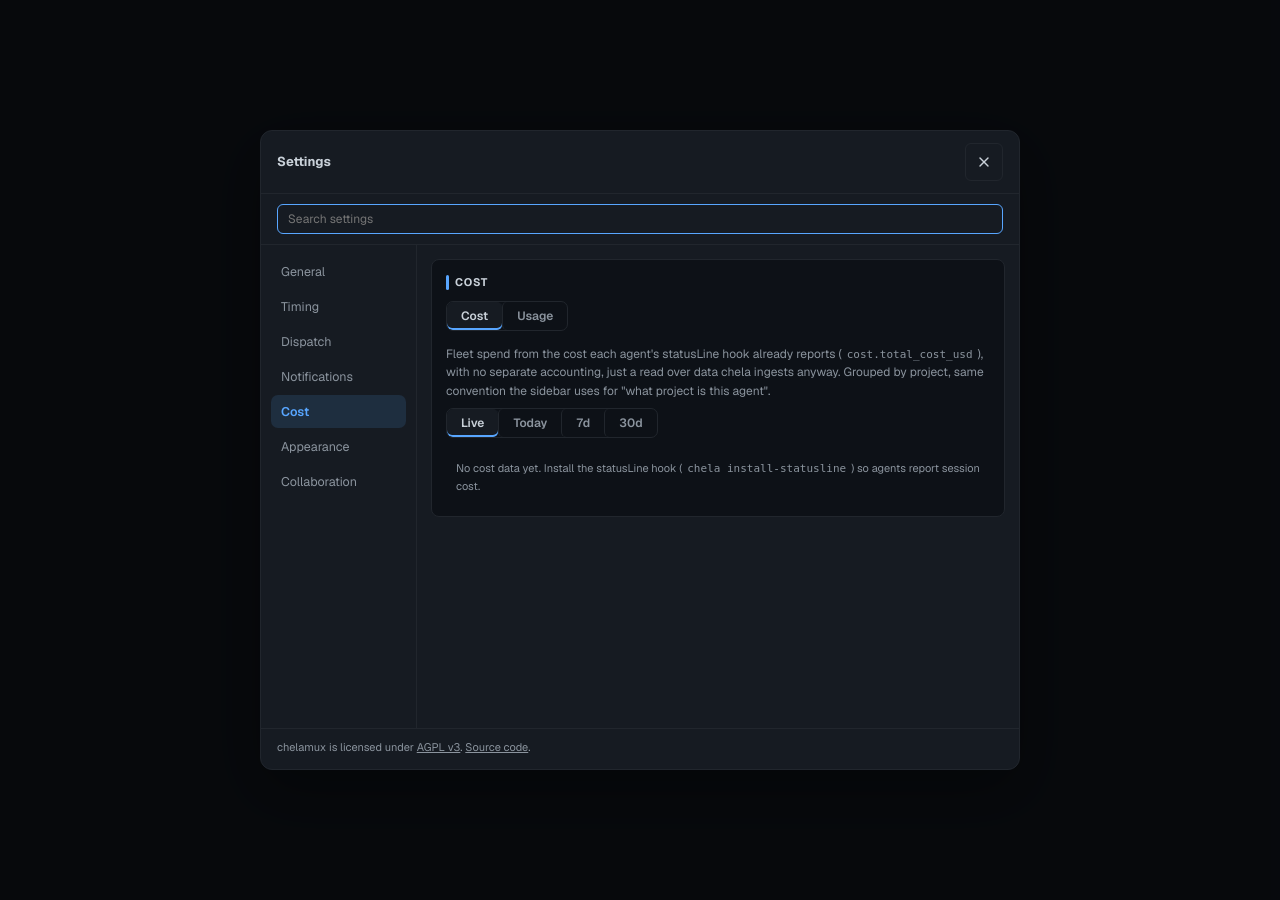
Test case: a window segment re-fetches for that window, marks itself pressed, and is kept per browser
The width and height of the screenshot is (1280, 900).
What coordinates should you click on to do the following:
click the button "7d"
I would click on:
 (583, 423)
Its box is [561, 409, 604, 437].
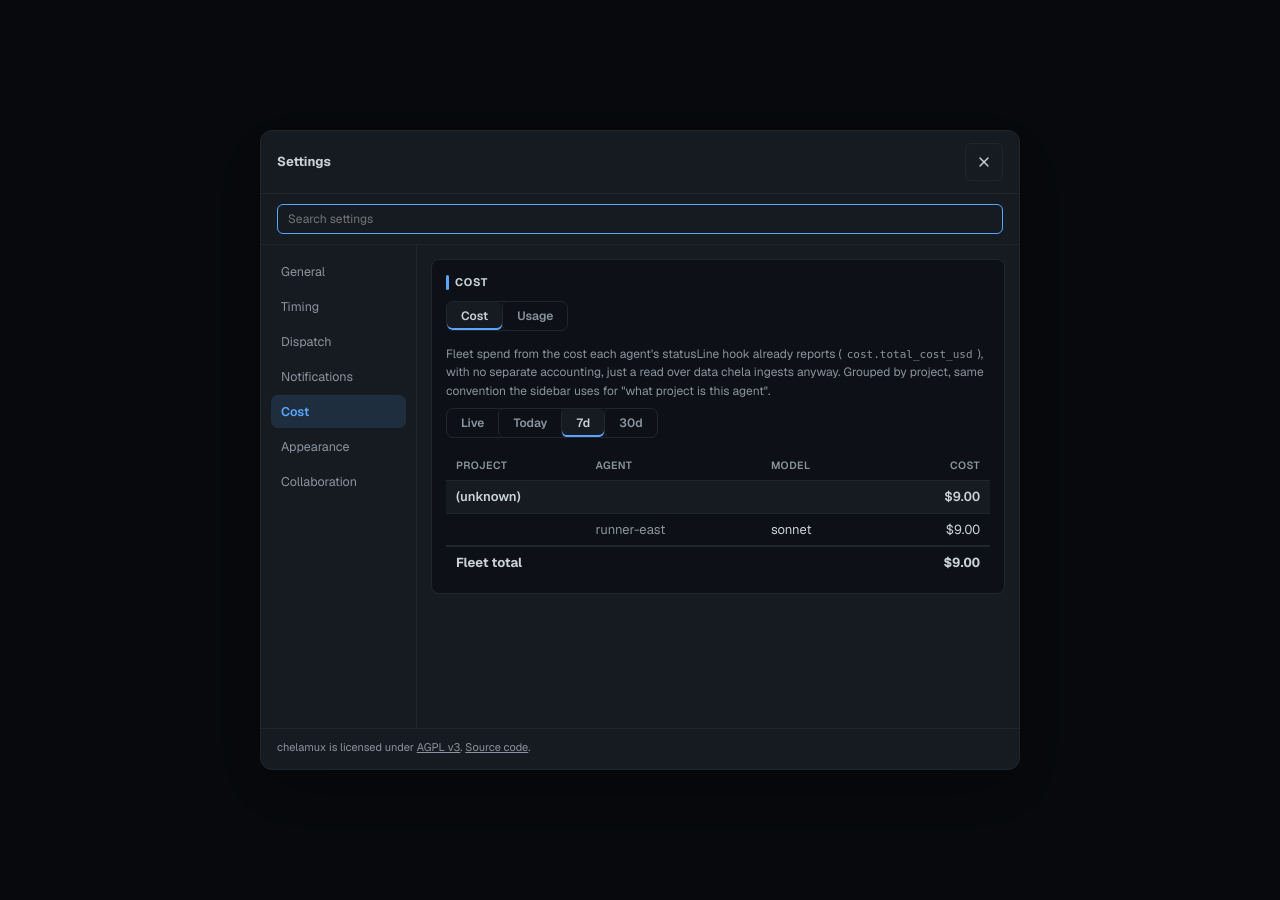
Now the element with id "cost-table" shows "$9.00", box [944, 488, 980, 505]
